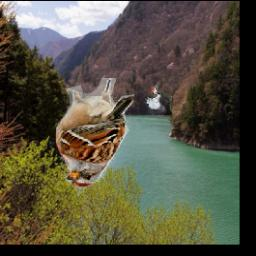Sparrow: (55, 79, 135, 188)
Woodpecker: (145, 81, 173, 115)
